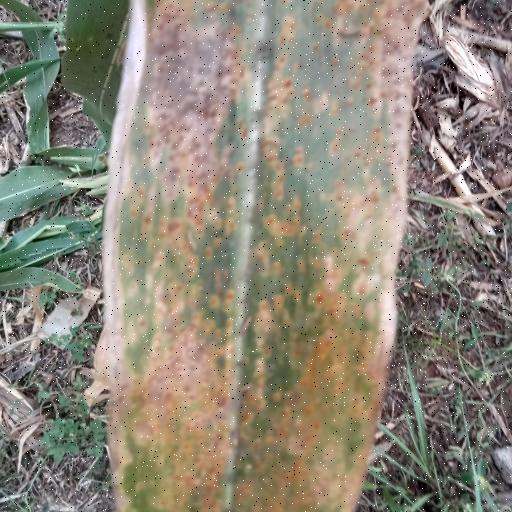Corn_Rust: (96, 0, 443, 512)
